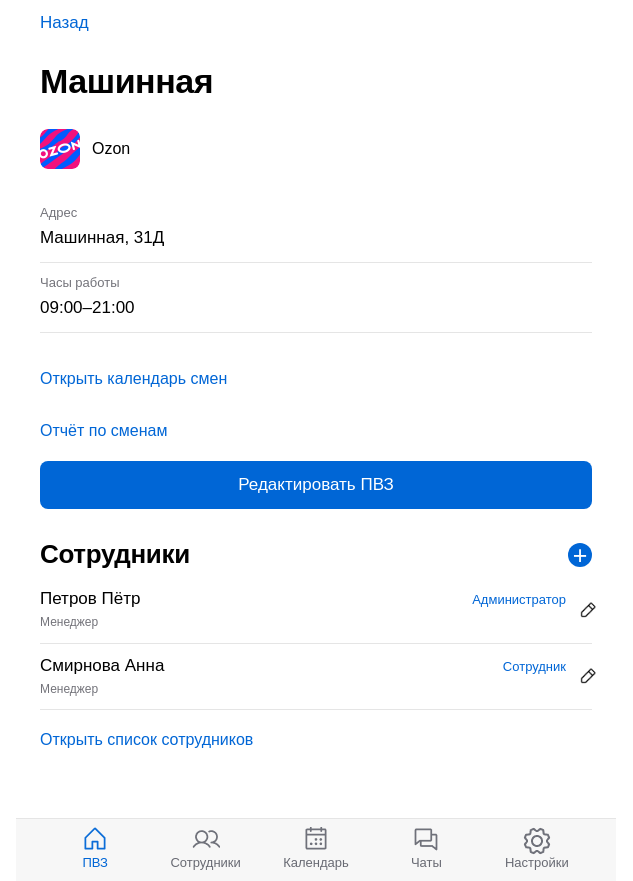
Scenario: из карточки ПВЗ отчёт формируется после выбора месяца; изменение периода скрывает старую выгрузку
Click the link "Отчёт по сменам".
click(104, 430)  # box x1=40 y1=422 x2=167 y2=439
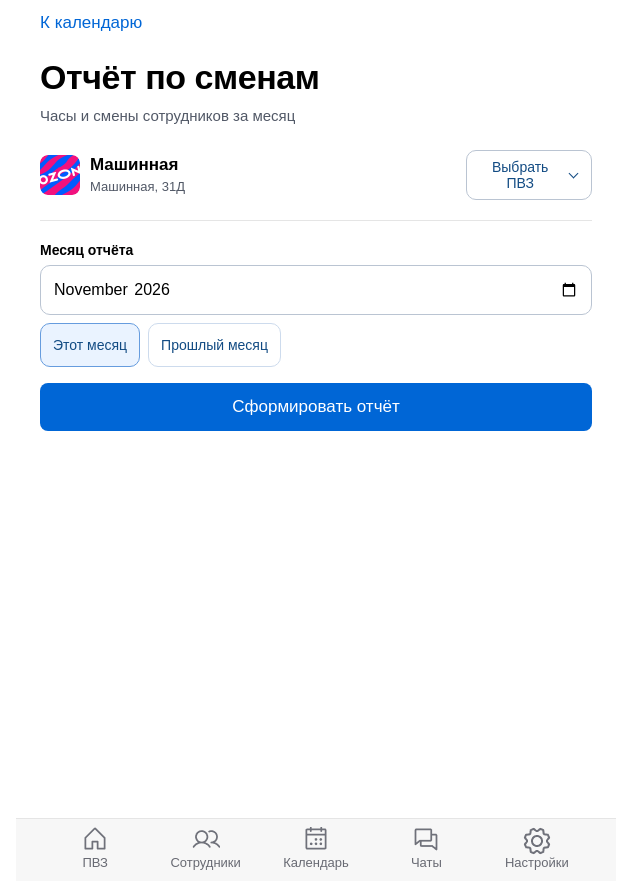
Replace the text in the field labelled "Месяц отчёта" with "2026-10" at (316, 290), box x1=40 y1=265 x2=592 y2=315
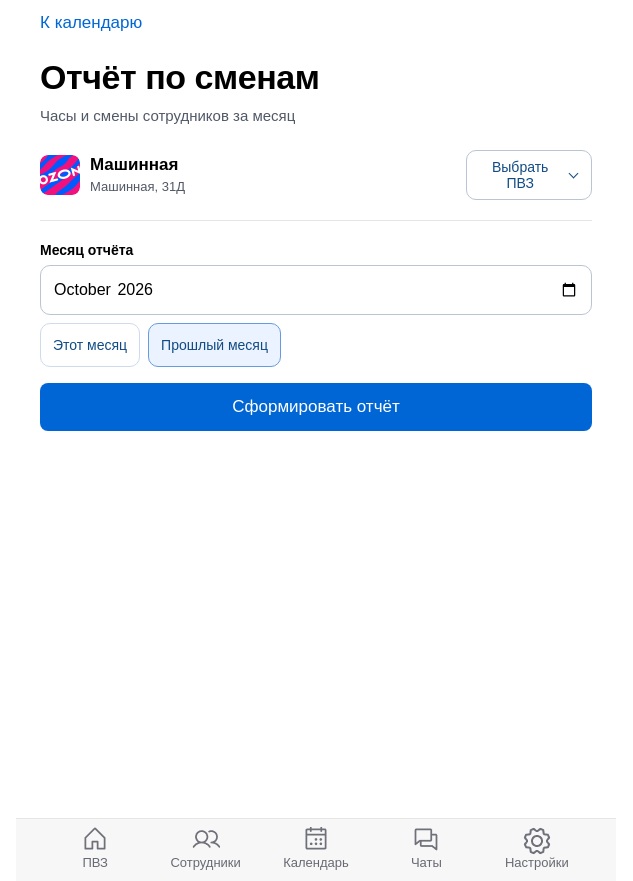
Click the button "Сформировать отчёт".
click(316, 407)  # box x1=40 y1=383 x2=592 y2=431
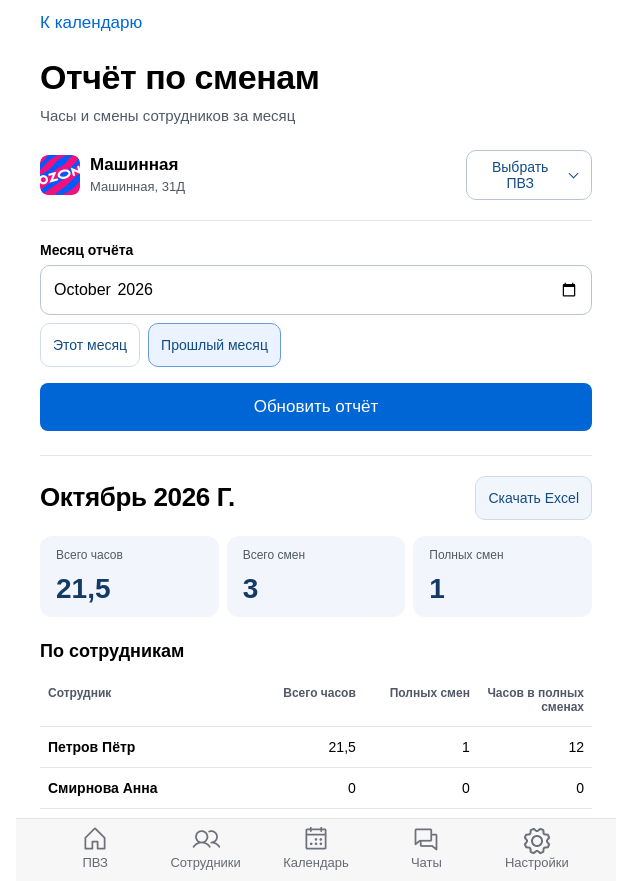
Replace the text in the field labelled "Месяц отчёта" with "2026-11" at (316, 290), box x1=40 y1=265 x2=592 y2=315
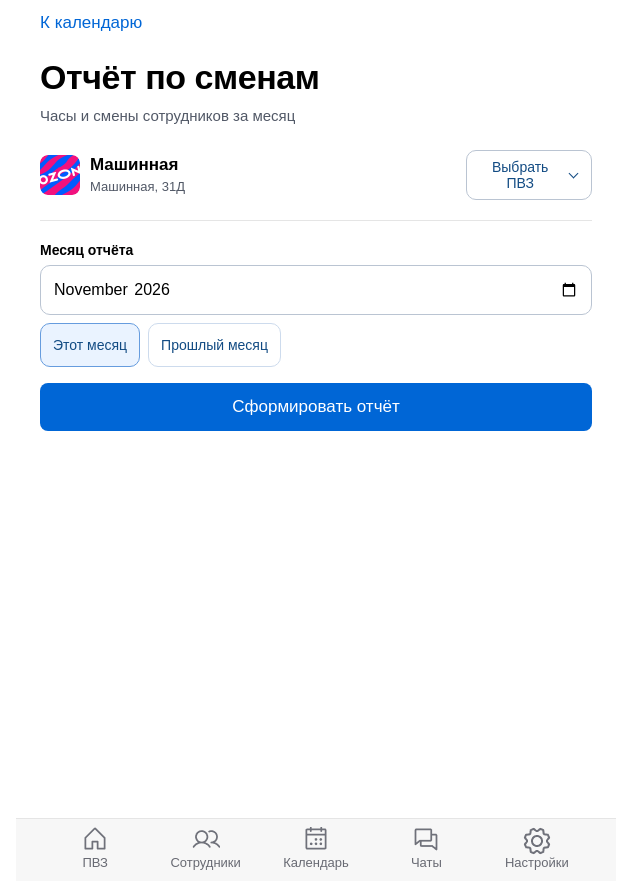
Check: the table is gone
Check: the button "Скачать Excel" is gone
Click the button "Сформировать отчёт".
click(316, 407)  # box x1=40 y1=383 x2=592 y2=431
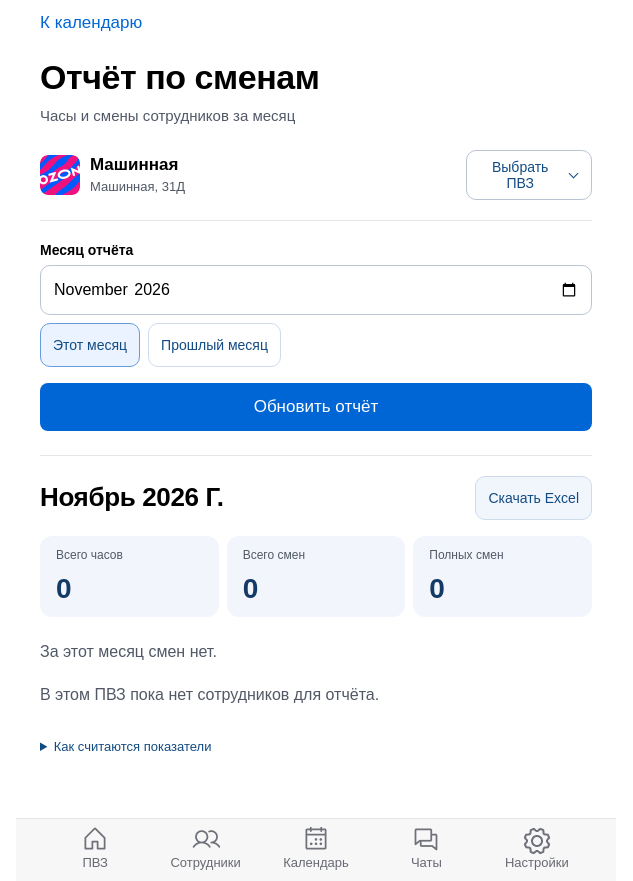
Check: the text "За этот месяц смен нет." is shown, box x1=40 y1=644 x2=217 y2=660
Check: the button "Скачать Excel" is shown, box x1=475 y1=476 x2=592 y2=520
